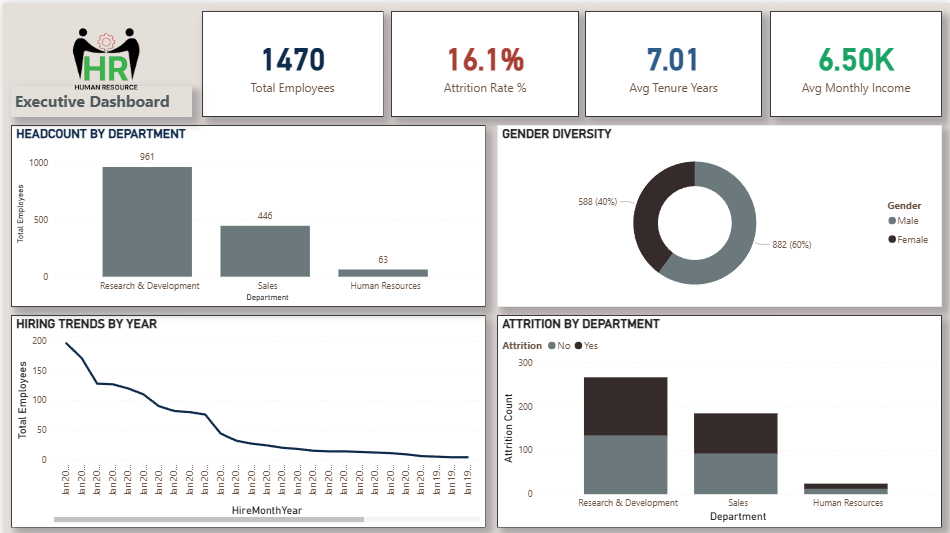

The page's visual inventory and layout, read from the dashboard file:
{"tool":"powerbi","page":{"name":"Executive Overview","canvas":[1280,720],"ordinal":0},"visuals":[{"type":"card","fields":{"Values":["HR_Employee_dataset.Total Employees"]},"box":[268.9,10.8,244.6,143.2],"z":0},{"type":"card","fields":{"Values":["HR_Employee_dataset.Attrition Rate %"]},"box":[524.3,10.8,254.1,143.2],"z":1000},{"type":"card","fields":{"Values":["HR_Employee_dataset.Avg Tenure Years"]},"box":[786.5,10.8,239.2,143.2],"z":2000},{"type":"card","fields":{"Values":["HR_Employee_dataset.Avg Monthly Income"]},"box":[1036.5,10.8,232.4,143.2],"z":3000},{"type":"donutChart","title":"GENDER DIVERSITY","fields":{"Category":["HR_Employee_dataset.Gender"],"Y":["HR_Employee_dataset.Total Employees"]},"box":[667.9,164.5,600.7,246],"z":4000},{"type":"columnChart","title":"ATTRITION BY DEPARTMENT","fields":{"Category":["HR_Employee_dataset.Department"],"Y":["DateTable.Attrition Count"],"Series":["HR_Employee_dataset.Attrition"]},"box":[667.9,421.9,600.7,287.5],"z":5000},{"type":"lineChart","title":"HIRING TRENDS BY YEAR","fields":{"Y":["HR_Employee_dataset.Total Employees"],"Category":["HR_Employee_dataset.HireMonthYear"]},"box":[11.4,421.9,640.7,287.5],"z":6000},{"type":"columnChart","title":"HEADCOUNT BY DEPARTMENT","fields":{"Category":["HR_Employee_dataset.Department"],"Y":["HR_Employee_dataset.Total Employees"]},"box":[11.4,164.5,640.7,246],"z":7000},{"type":"textbox","box":[10.8,112.2,244.6,41.9],"z":7001},{"type":"image","box":[40.5,0,198.6,154.1],"z":7002}]}

Visuals, with their boxes in screenshot pixels (x1, y1, x2, y2), scaled from the page's 1280x720 canvas onto the 950x533 screenshot:
card - HR_Employee_dataset.Total Employees: [200,8,381,114]
card - HR_Employee_dataset.Attrition Rate %: [389,8,578,114]
card - HR_Employee_dataset.Avg Tenure Years: [584,8,761,114]
card - HR_Employee_dataset.Avg Monthly Income: [769,8,942,114]
"GENDER DIVERSITY" donutChart: [496,122,942,304]
"ATTRITION BY DEPARTMENT" columnChart: [496,312,942,525]
"HIRING TRENDS BY YEAR" lineChart: [8,312,484,525]
"HEADCOUNT BY DEPARTMENT" columnChart: [8,122,484,304]
textbox: [8,83,190,114]
image: [30,0,177,114]
